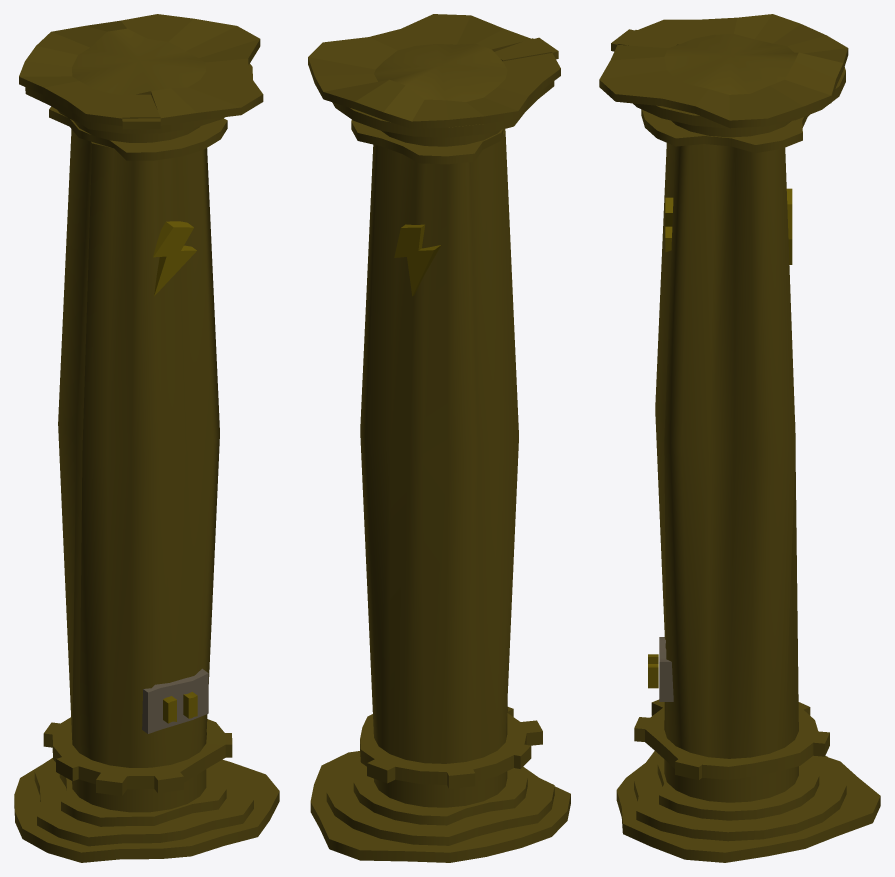
The model's file is pillarMid.fbx.
The picture shows the model from 3 angles, left to right: view 1: azimuth 30°, elevation 25°; view 2: azimuth 150°, elevation 25°; view 3: azimuth 270°, elevation 25°; orthographic projection.
Visible parts, largest first — view 1: pillar4, plugBase1, oldThunder10; view 2: pillar4, oldThunder11; view 3: pillar4, plugBase1.
Part boxes in pixels (x1,y1,x2,y2): pillar4: (14, 14, 279, 862); plugBase1: (142, 668, 208, 733); oldThunder10: (153, 221, 196, 296); pillar4: (308, 14, 570, 862); oldThunder11: (394, 224, 441, 296); pillar4: (599, 14, 880, 862); plugBase1: (659, 637, 673, 701).
Size of the model in its own units: 6.15 by 18.66 by 6.33.
